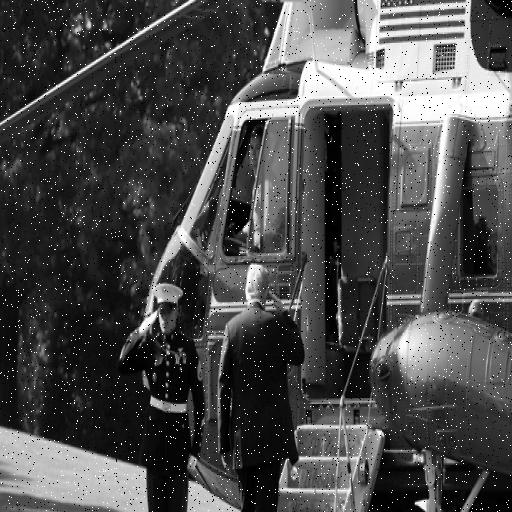helicopter: (1, 5, 512, 512)
